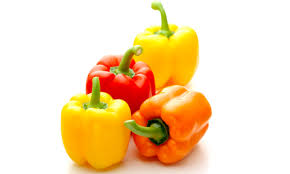bell pepper: (57, 79, 150, 170), (125, 84, 215, 163), (134, 1, 201, 91), (88, 47, 160, 121)
